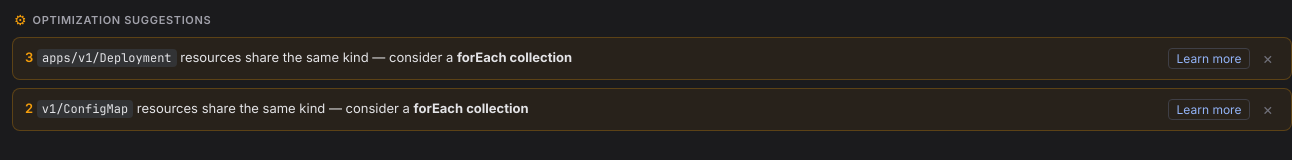
it: OptimizationAdvisor — US2 (multiple groups) › dismissing the second group leaves the first visible
Click the button with test id "advisor-item-ConfigMap-dismiss".
click(1268, 109)  # box [1256,99,1279,119]
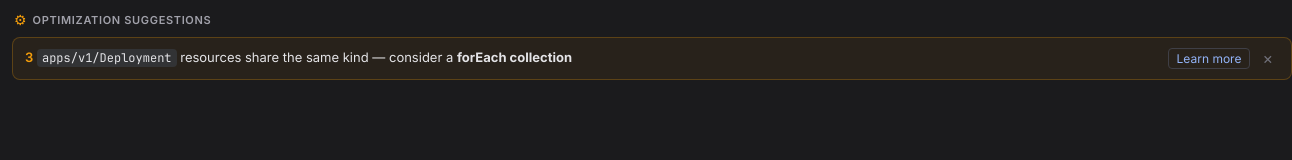
Expected: the element with test id "advisor-item-Deployment" is shown, [12,36,1291,80]
Now the element with test id "advisor-item-ConfigMap" is gone
